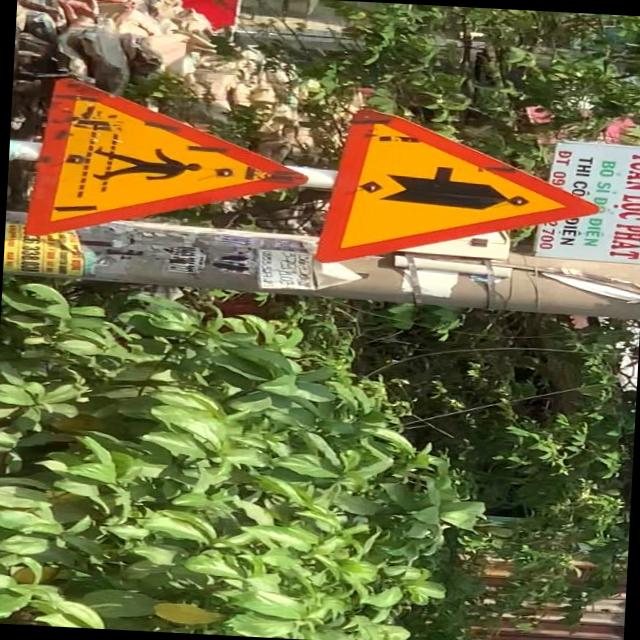W-207c: (313, 106, 607, 277)
W-224: (18, 78, 314, 252)
